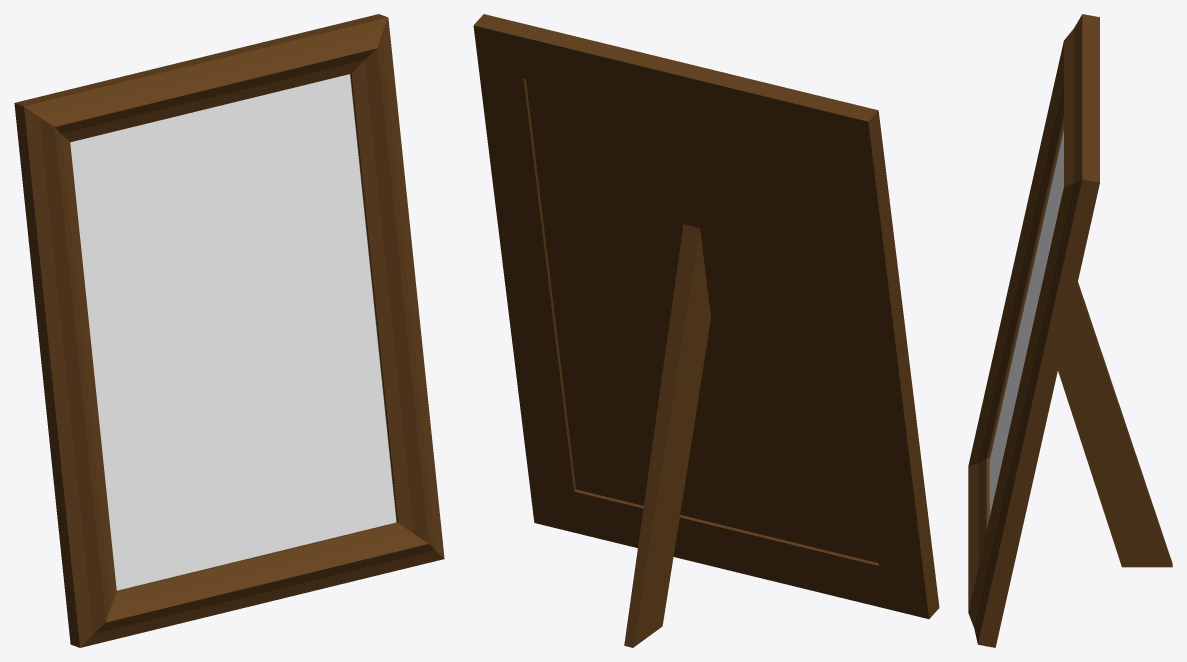
The model's file is quadroglb.glb.
The picture shows the model from 3 angles, left to right: view 1: azimuth 30°, elevation 25°; view 2: azimuth 150°, elevation 25°; view 3: azimuth 270°, elevation 25°; orthographic projection. The views are drawn at different scales.
Visible parts, largest first — view 1: Cube; view 2: Cube; view 3: Cube.
Boxes of the visible parts, x1,y1,x2,y2 form: Cube: (14,14,444,647); Cube: (473,14,939,647); Cube: (968,14,1172,647).
Size of the model in its own units: 0.9451 by 1.25 by 0.4936.
